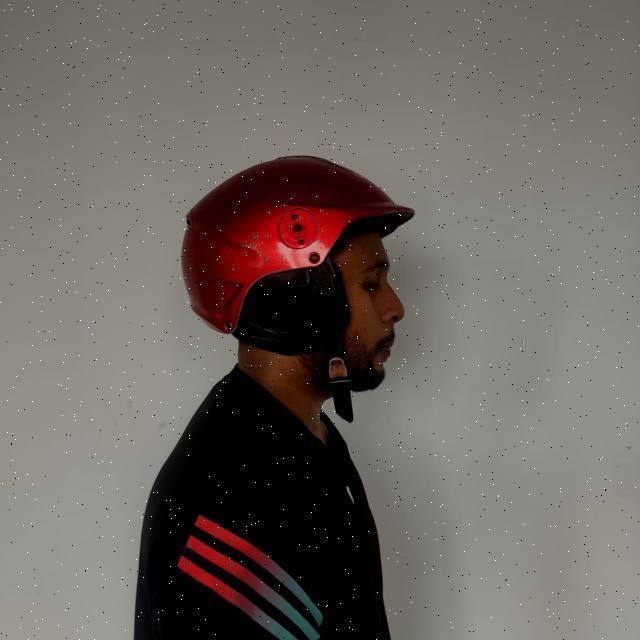helmet: (182, 154, 414, 425)
